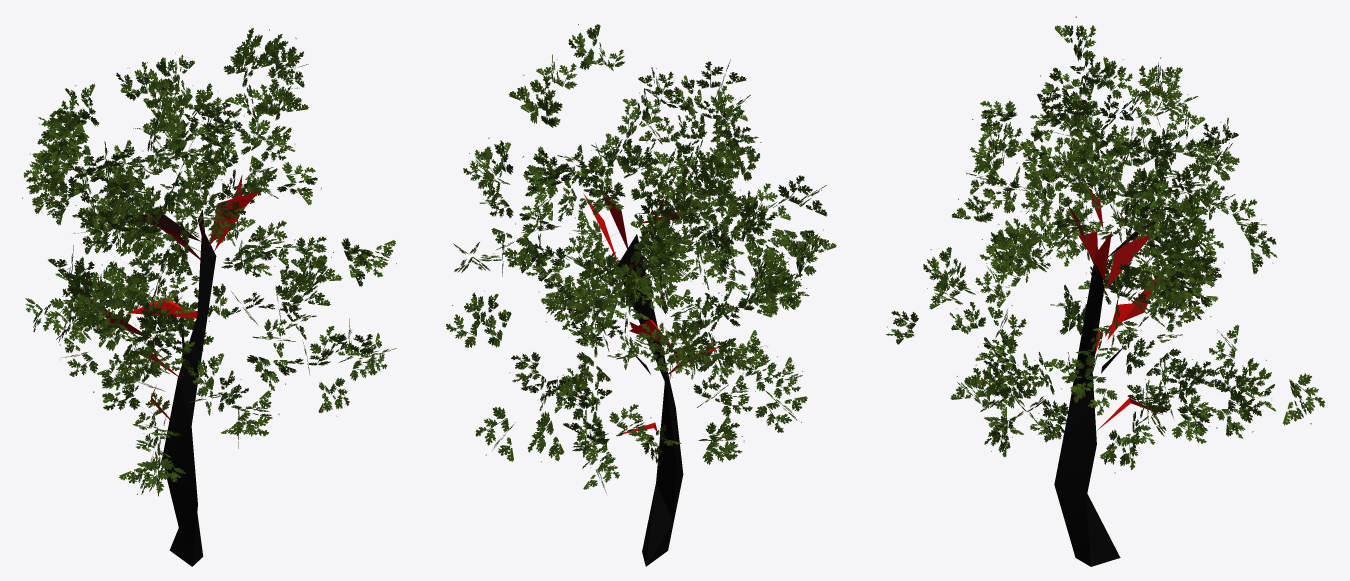
File: oak5 lod4.FBX
The picture shows the model from 3 angles, left to right: view 1: azimuth 30°, elevation 25°; view 2: azimuth 150°, elevation 25°; view 3: azimuth 270°, elevation 25°; orthographic projection. The views are drawn at different scales.
Parts seen in each view (by area): view 1: oak 5_LOD4; view 2: oak 5_LOD4; view 3: oak 5_LOD4.
Boxes of the visible parts, <box> form: oak 5_LOD4: <box>22,28,396,566</box>; oak 5_LOD4: <box>446,24,836,566</box>; oak 5_LOD4: <box>886,16,1325,566</box>.
Bounding box in the file's own units: 101466 × 135336 × 108243.
